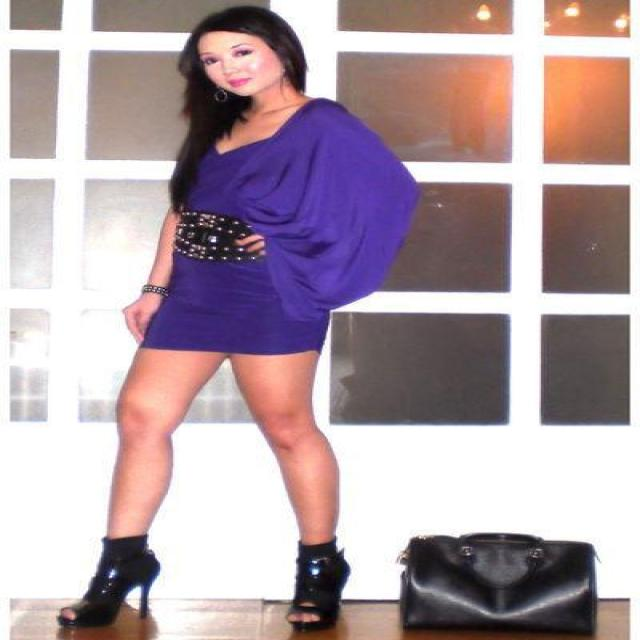bag: (374, 533, 629, 639)
dress: (139, 98, 419, 356)
shoe: (58, 534, 348, 639)
